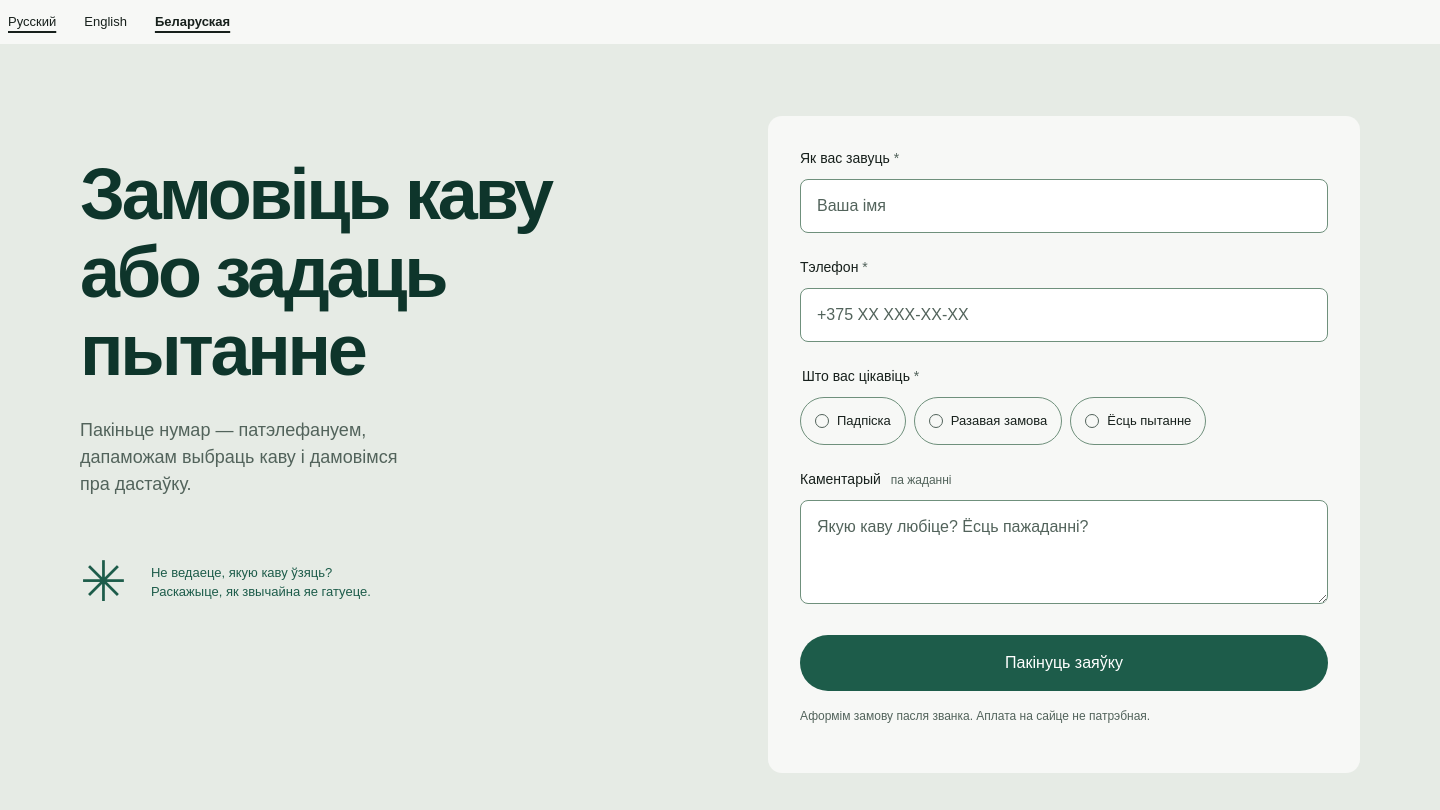
Test: renders complete form feedback in be
The width and height of the screenshot is (1440, 810).
Type "Synthetic request" into the field labelled "Як вас завуць *".
click(1064, 206); type("Synthetic request")  # box 800,179 -> 1328,233
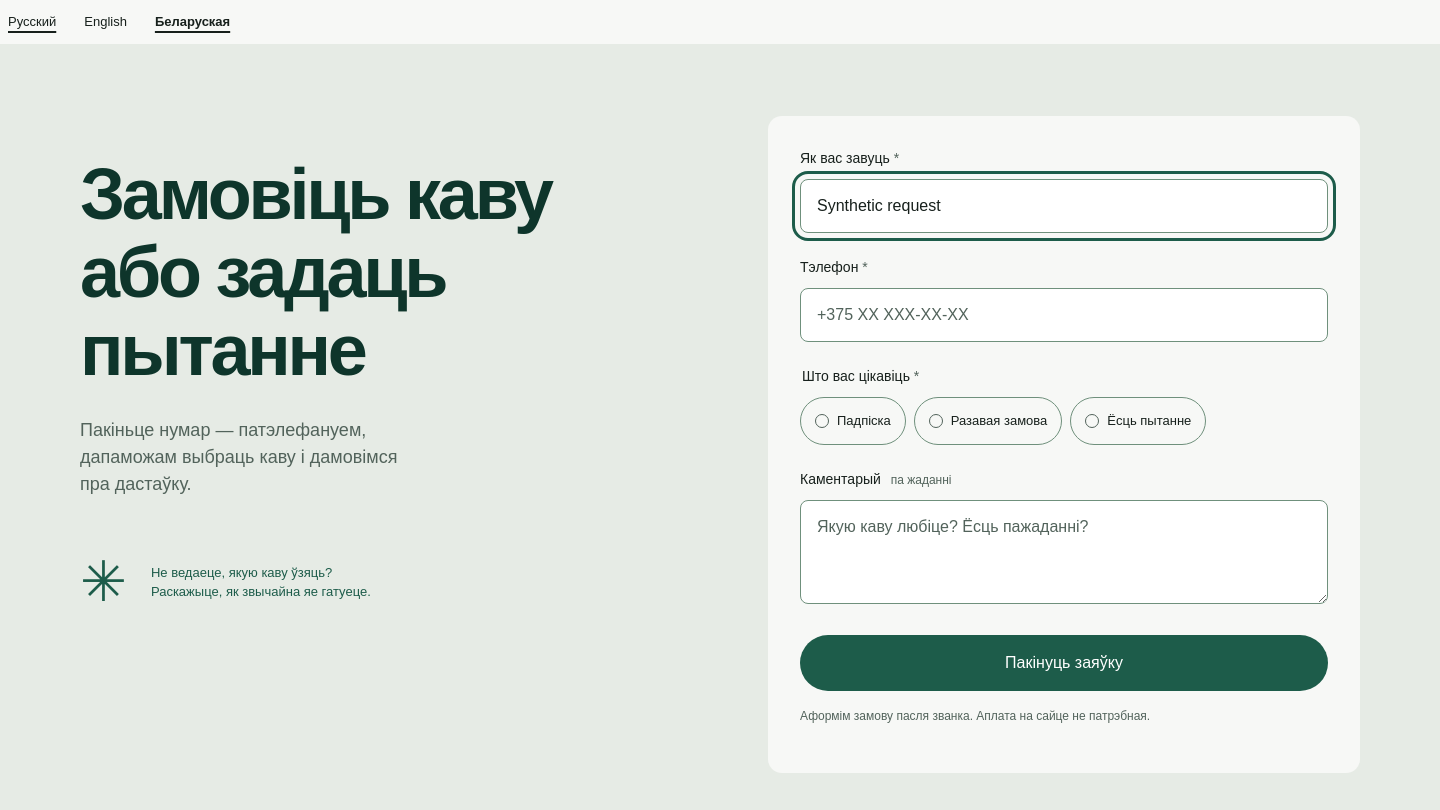
Type "+375291234567" into the field labelled "Тэлефон *".
click(1064, 315); type("+375291234567")  # box 800,288 -> 1328,342
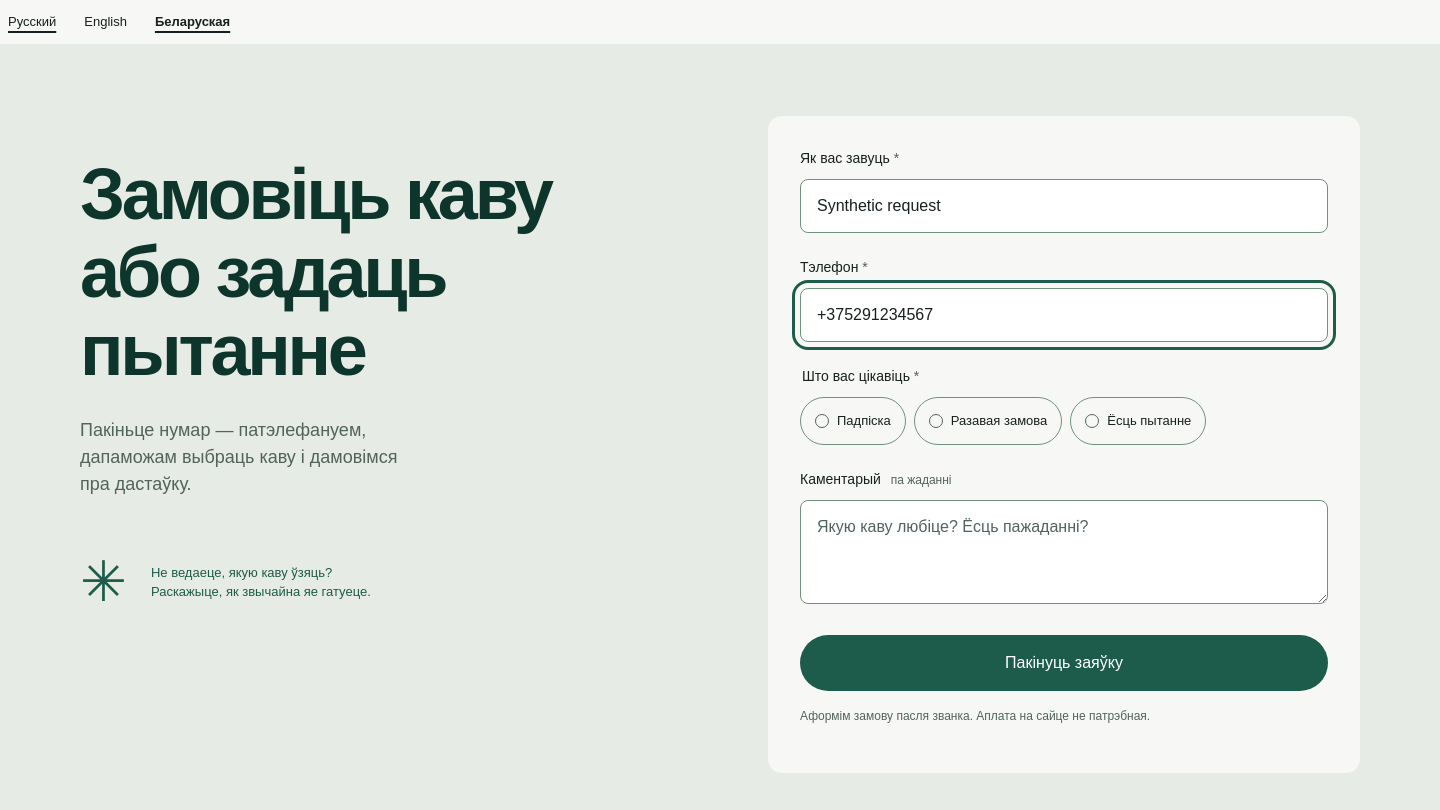
Click the radio button labelled "Ёсць пытанне".
click(1138, 421)  # box 1070,397 -> 1206,445
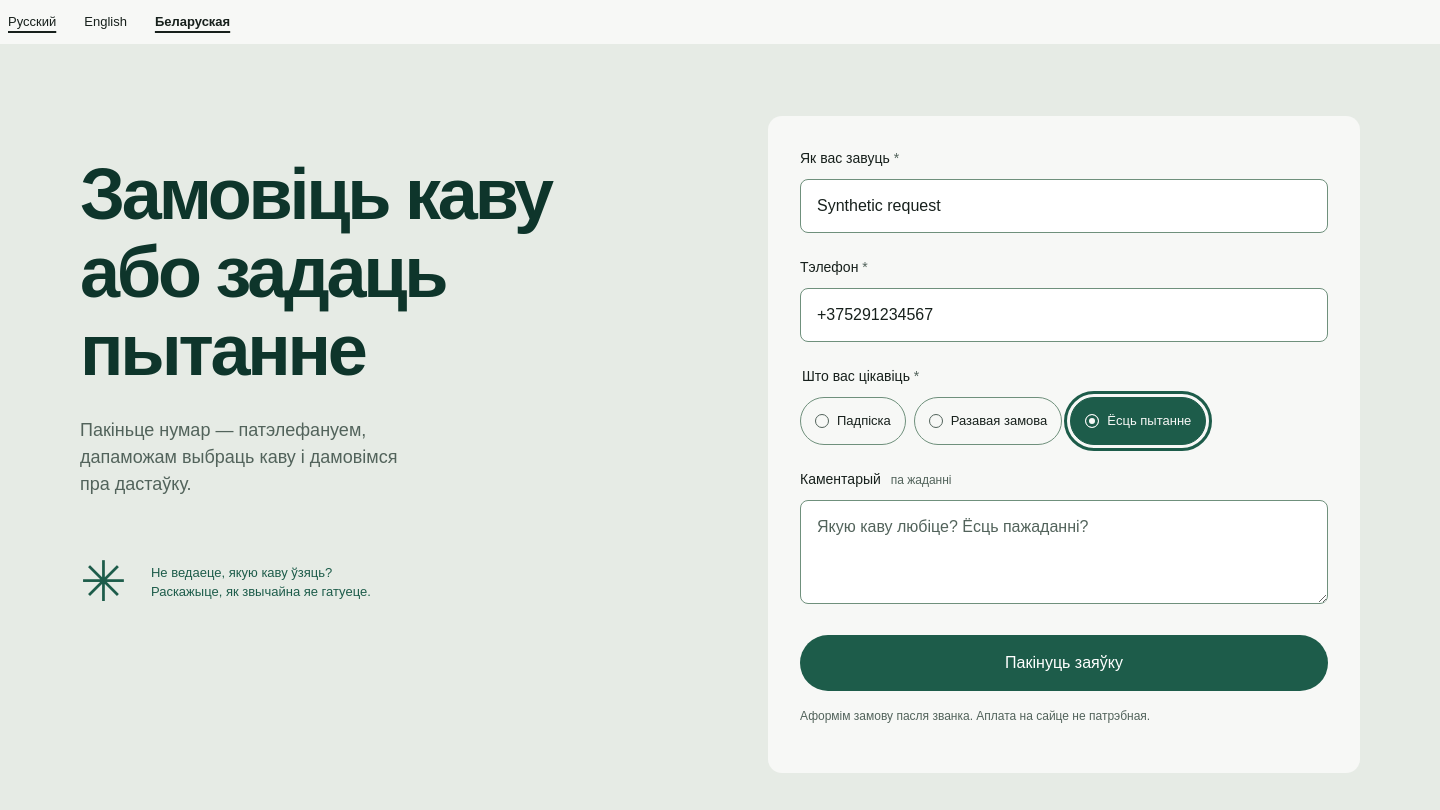
Click the button "Пакінуць заяўку".
click(1064, 663)  # box 800,635 -> 1328,691
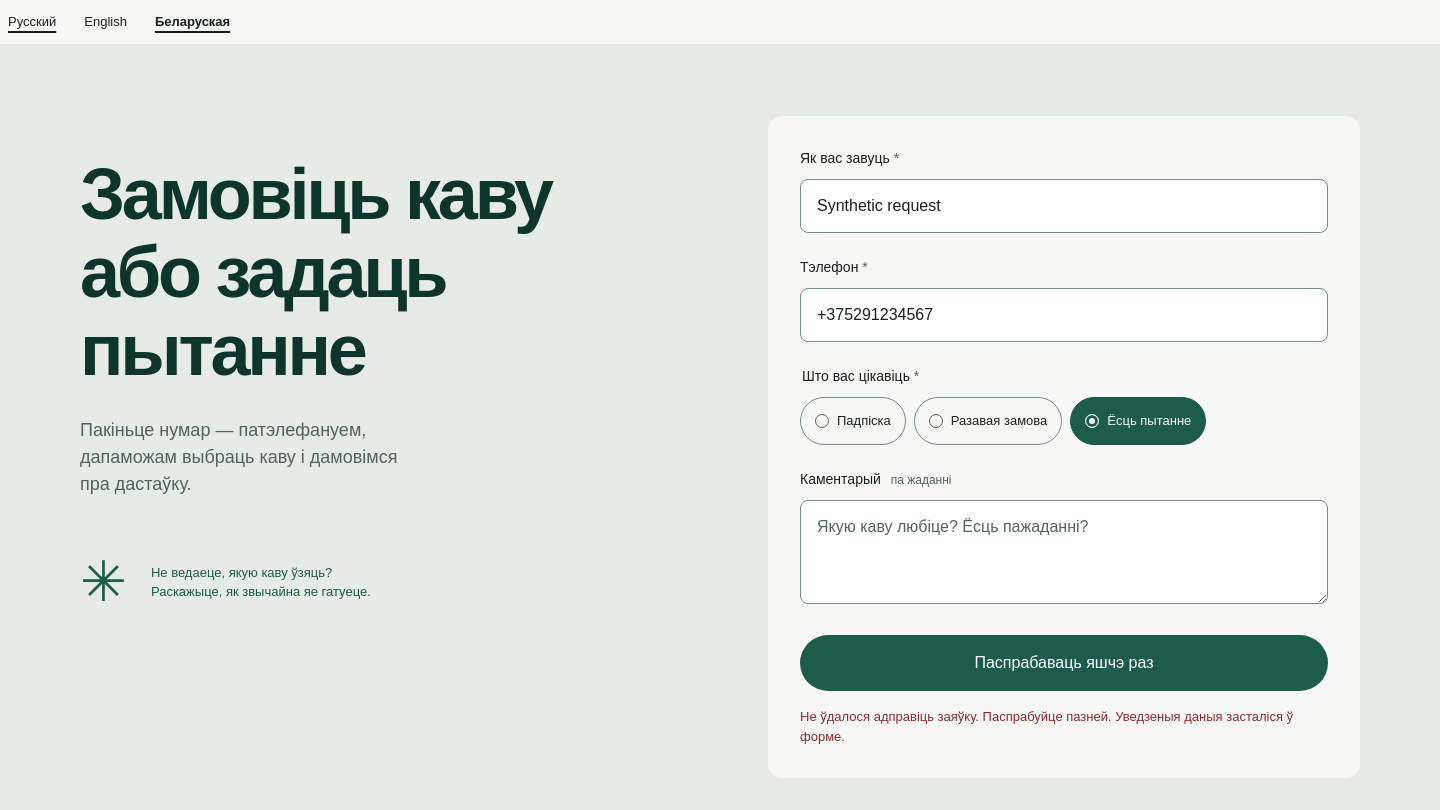
Expected: the text "Не ўдалося адправіць заяўку. Паспрабуйце пазней. Уведзеныя даныя засталіся ў форме." is shown, 800,709 -> 1293,744
Expected: the button "Паспрабаваць яшчэ раз" is shown, 800,635 -> 1328,691
